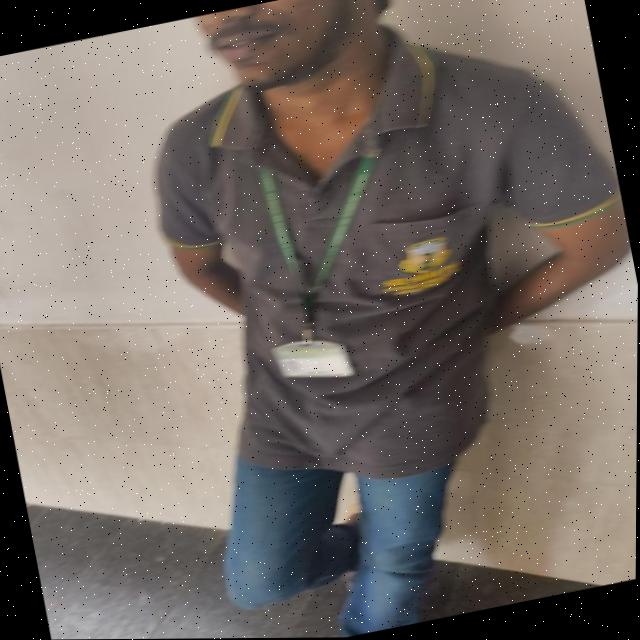id_card: (229, 144, 420, 399)
